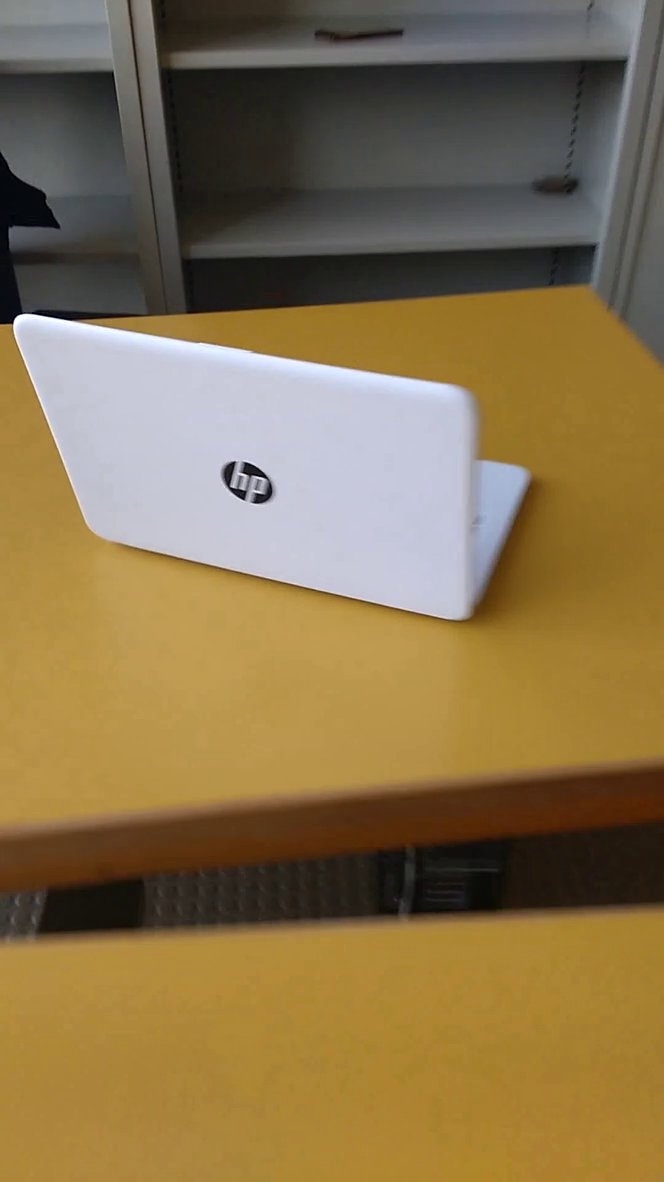laptop: (9, 295, 546, 650)
